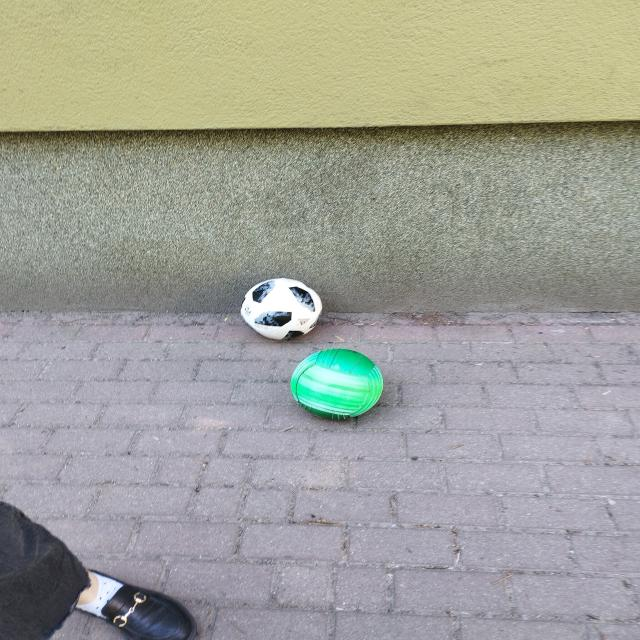nozna: (240, 278, 323, 340)
zielona: (290, 349, 383, 421)
